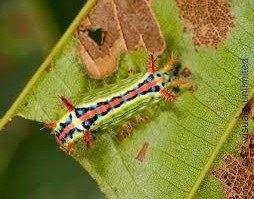Pest! (nettle_caterpillar): (42, 56, 197, 154)
